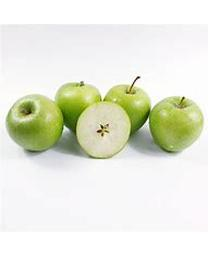apple: (5, 93, 63, 151), (76, 102, 131, 159), (148, 97, 203, 152), (102, 76, 150, 134), (56, 80, 102, 133)
